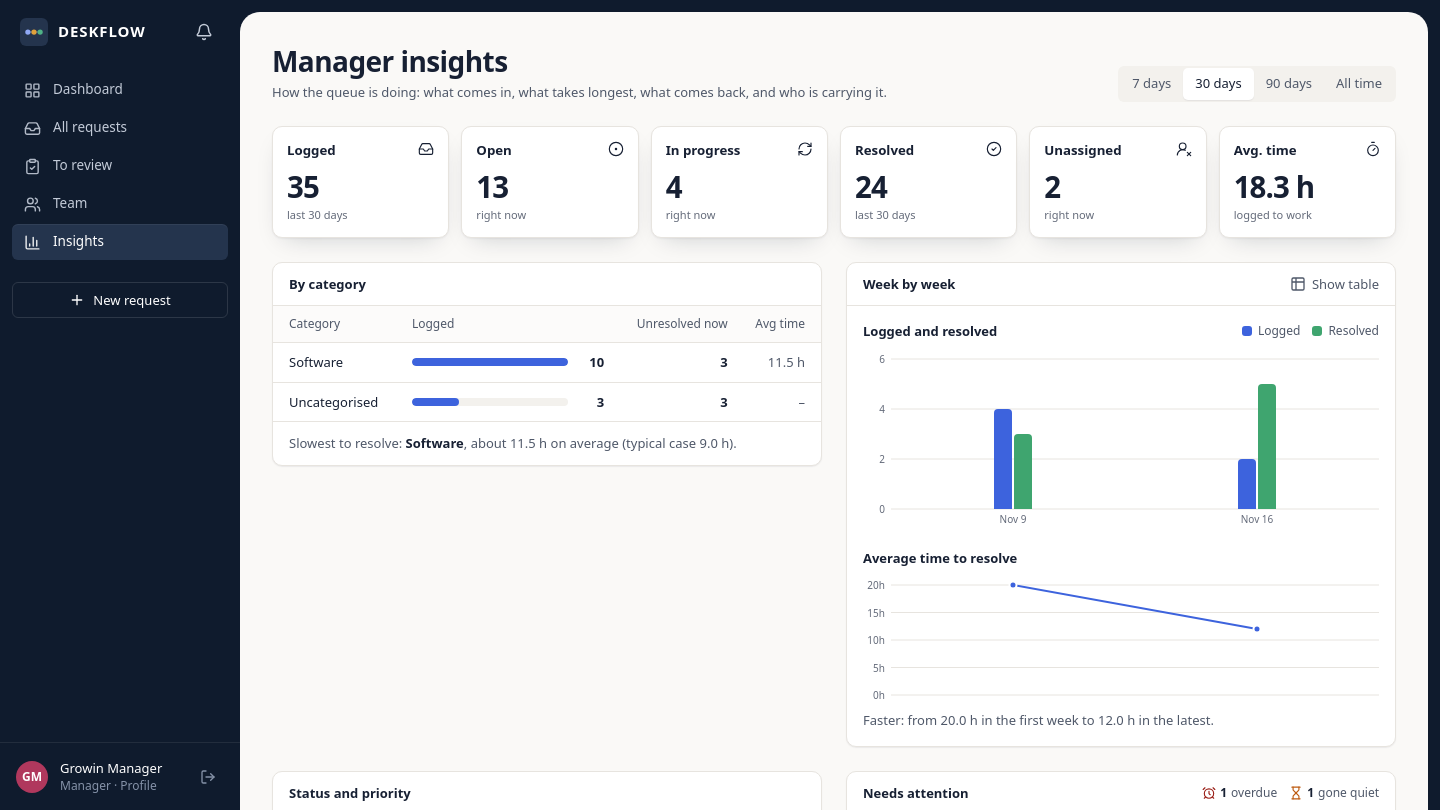
manager insights › shows key metrics, mix, attention list, outcomes with sample sizes, and a table view
This screenshot has width=1440, height=810.
Check: the text "35" is shown, box [287, 167, 319, 207]
Check: the heading "Manager insights" is shown, box [272, 42, 508, 80]
What coordinates should you click on to do the following:
click the button "Show table"
I would click on:
 (1334, 284)
Its box is [1290, 275, 1379, 293].
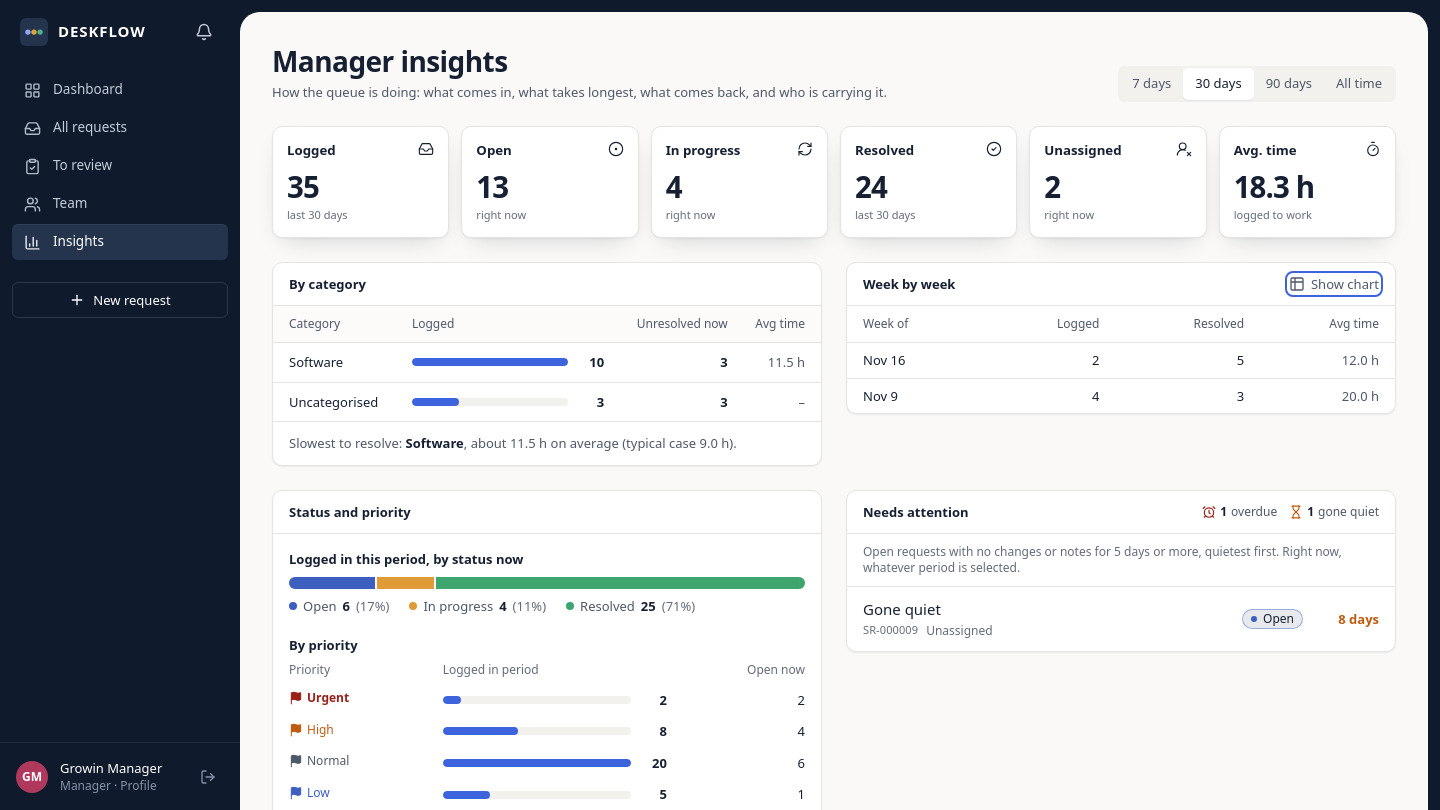
What coordinates should you click on to do the following:
click the button "7 days"
I would click on:
 (1152, 84)
Its box is [1120, 68, 1183, 100].
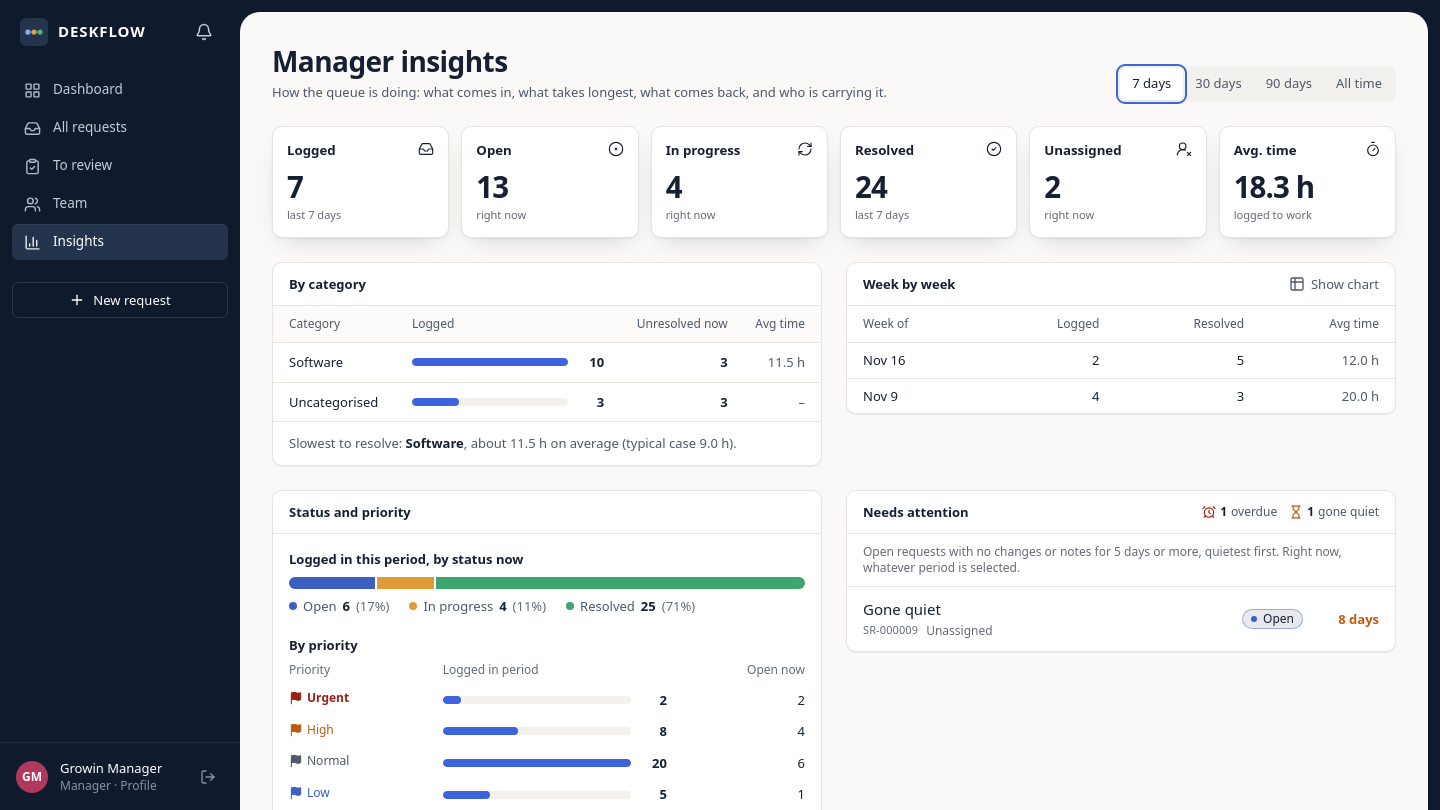
Check: the text "7" is shown, box [287, 167, 303, 207]
